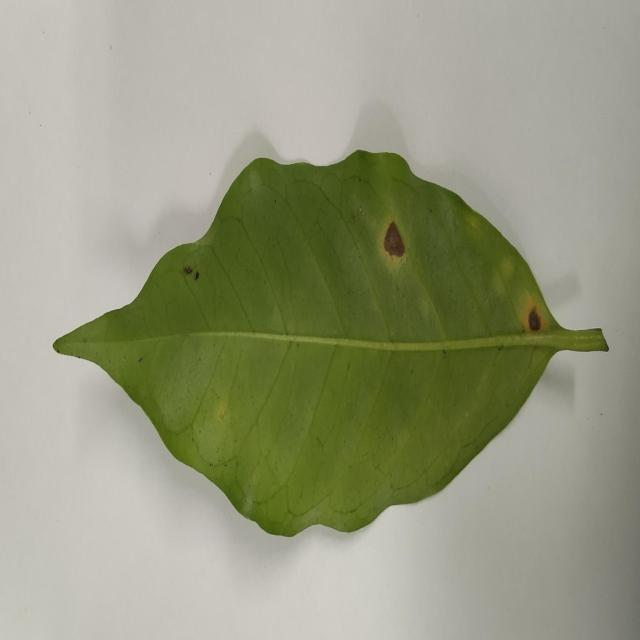Enfermedad-Mancha-de-hierro: (52, 150, 609, 539)
